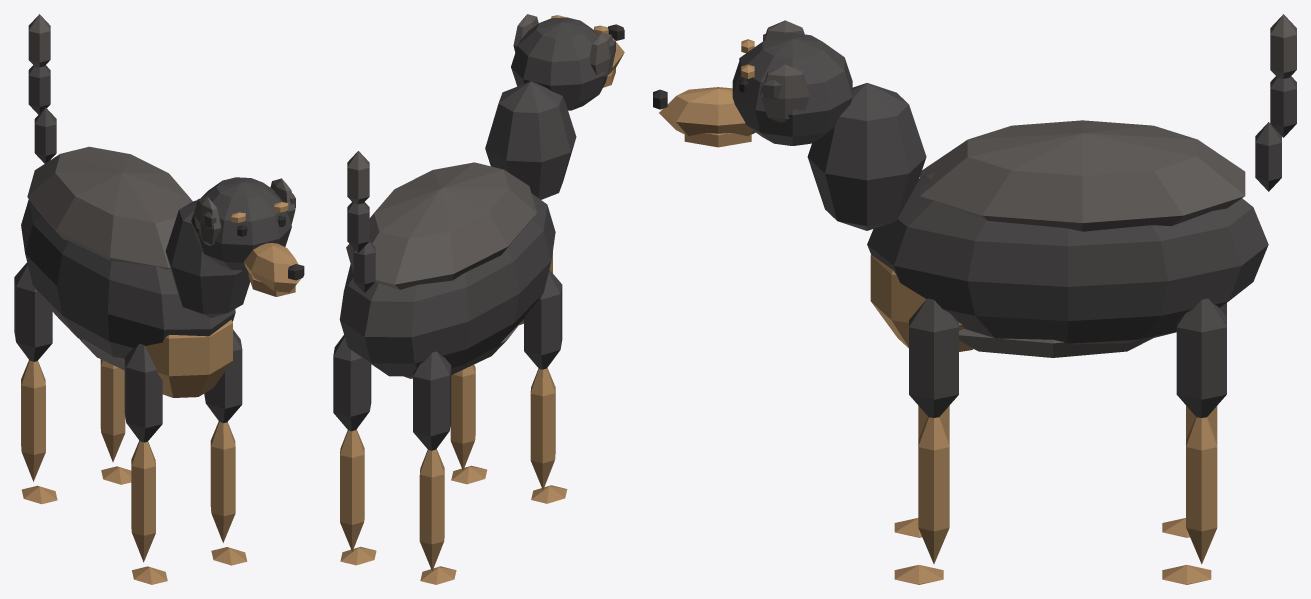
The model's file is koira_jagdterrier.glb.
3 renders of one model, left to right at view 1: azimuth 30°, elevation 25°; view 2: azimuth 150°, elevation 25°; view 3: azimuth 270°, elevation 25°, orthographic. The views are drawn at different scales.
Visible parts, largest first — view 1: runko, paa, jalka_eo, jalka_to, jalka_ev, hanta, jalka_tv, korva_o, leuka, korva_v; view 2: runko, jalka_to, paa, jalka_tv, jalka_eo, hanta, jalka_ev, korva_o, korva_v; view 3: runko, paa, jalka_tv, jalka_ev, hanta, korva_v, leuka, jalka_to.
Part boxes in pixels (x1,y1,x2,y2): runko: (21, 146, 250, 397); paa: (191, 177, 304, 283); jalka_eo: (124, 343, 167, 584); jalka_to: (14, 262, 57, 504); jalka_ev: (204, 329, 247, 565); hanta: (28, 14, 56, 163); jalka_tv: (100, 359, 131, 484); korva_o: (194, 196, 221, 245); leuka: (244, 262, 301, 296); korva_v: (270, 178, 295, 224); runko: (339, 81, 576, 378); jalka_to: (413, 351, 456, 584); paa: (511, 15, 624, 110); jalka_tv: (333, 335, 376, 565); jalka_eo: (524, 270, 567, 503); hanta: (347, 151, 375, 292); jalka_ev: (450, 364, 487, 484); korva_o: (590, 32, 615, 78); korva_v: (513, 14, 538, 52); runko: (807, 83, 1268, 357); paa: (653, 33, 852, 145); jalka_tv: (1162, 298, 1226, 584); jalka_ev: (894, 298, 958, 584); hanta: (1255, 14, 1296, 191); korva_v: (760, 64, 809, 122); leuka: (659, 113, 755, 147); jalka_to: (1162, 303, 1226, 537).
Size of the model in its own units: 0.1526 by 0.4588 by 0.4891.
